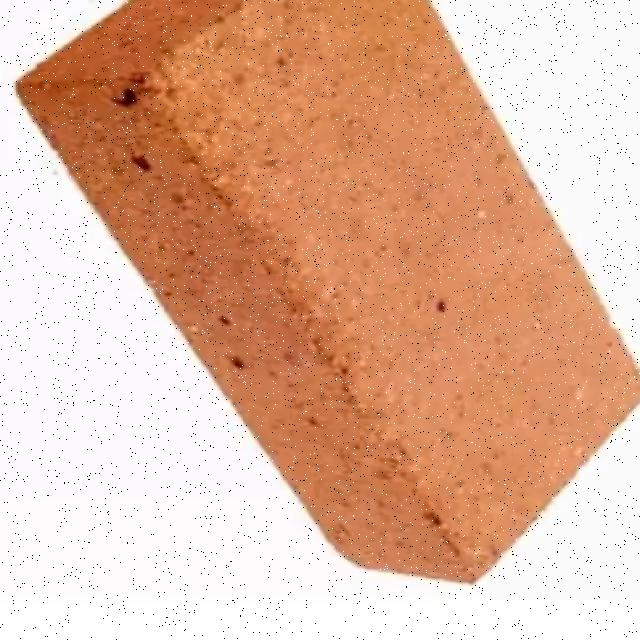bricks: (8, 0, 640, 584)
